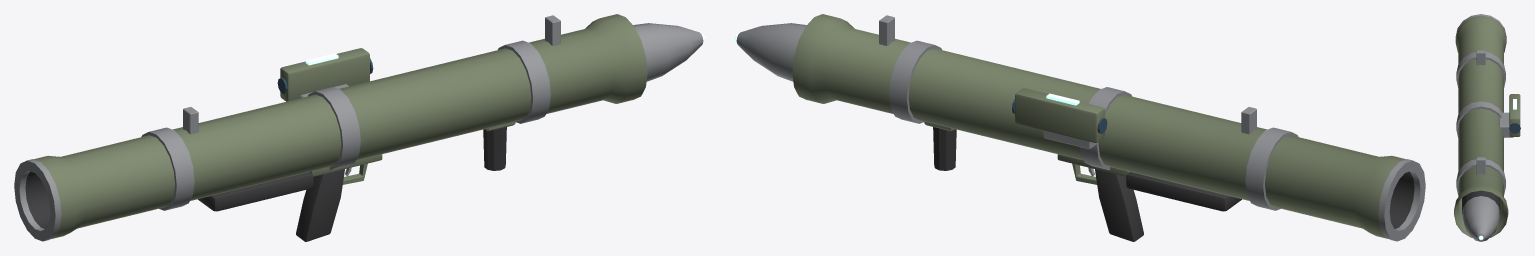
The model's file is w_rocket.glb.
3 renders of one model, left to right at view 1: azimuth 30°, elevation 25°; view 2: azimuth 150°, elevation 25°; view 3: azimuth 270°, elevation 25°, orthographic. The views are drawn at different scales.
Visible parts, largest first — view 1: W_rocket; view 2: W_rocket; view 3: W_rocket.
Part boxes in pixels (<box>): W_rocket: <box>14,14,705,241</box>; W_rocket: <box>734,14,1425,241</box>; W_rocket: <box>1454,14,1520,241</box>.
Bounding box in the file's own units: 1.13 × 0.2555 × 0.158.
